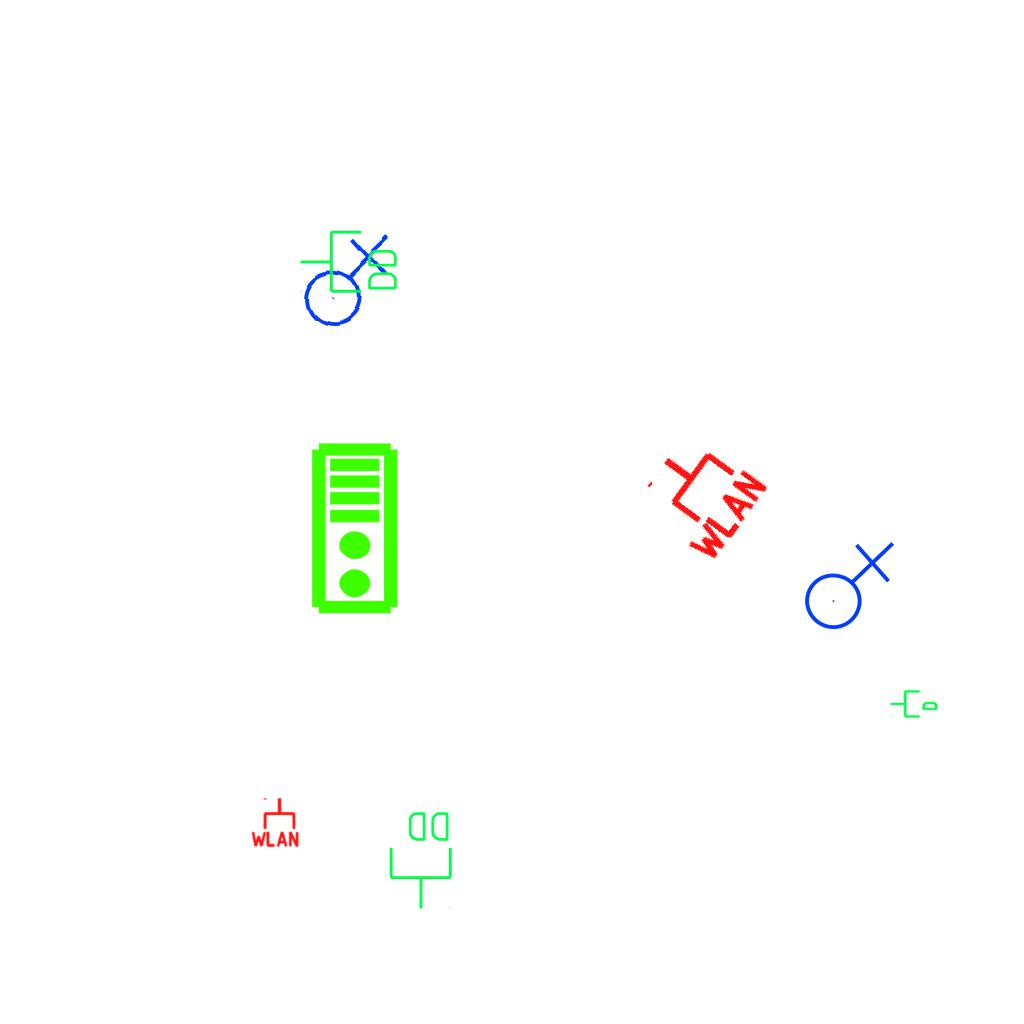Datenanschluss_einfach: (889, 686, 939, 720)
Datenanschluss_zweifach: (387, 808, 456, 911), (298, 228, 401, 297)
Elektroanschluss_allgemein_230V_Geraeteanschlussdose_230V: (290, 228, 397, 332), (796, 537, 895, 631)
Gegensprechanlage_mit_Video: (309, 441, 404, 617)
WLAN: (626, 423, 773, 569), (249, 796, 301, 848)
